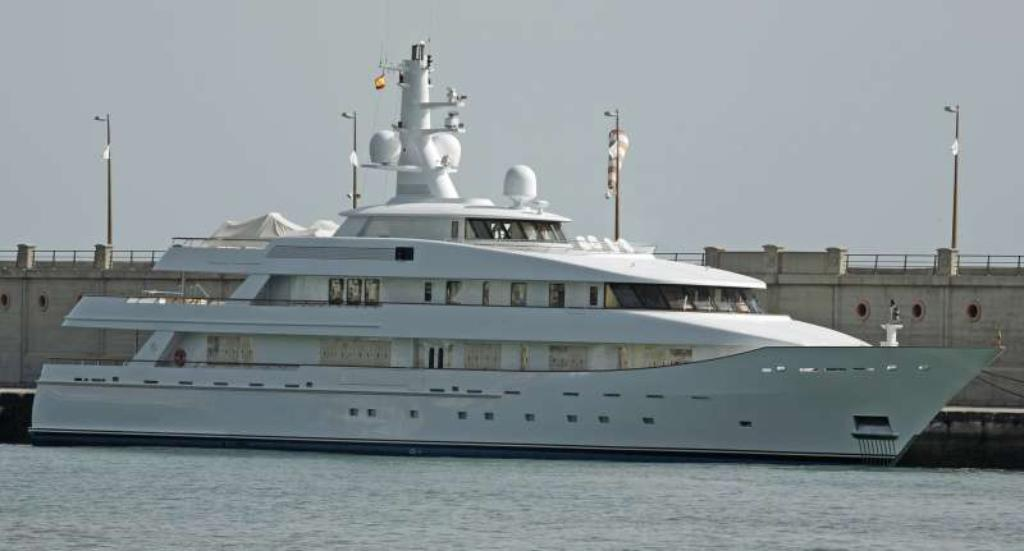PassengerShip: (15, 42, 1007, 462)
